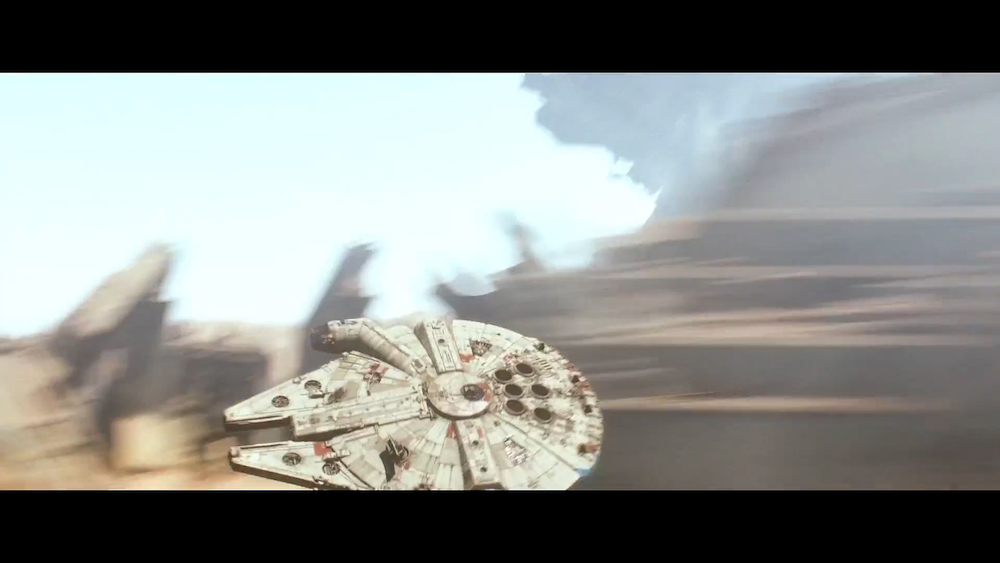Millennium Falcon: (223, 317, 603, 490)
